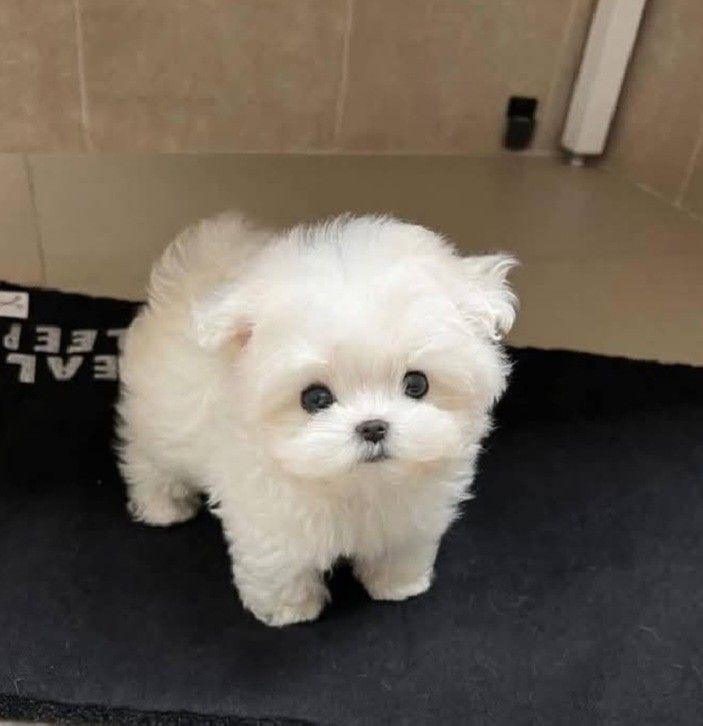puppy-dog: (112, 208, 526, 629)
